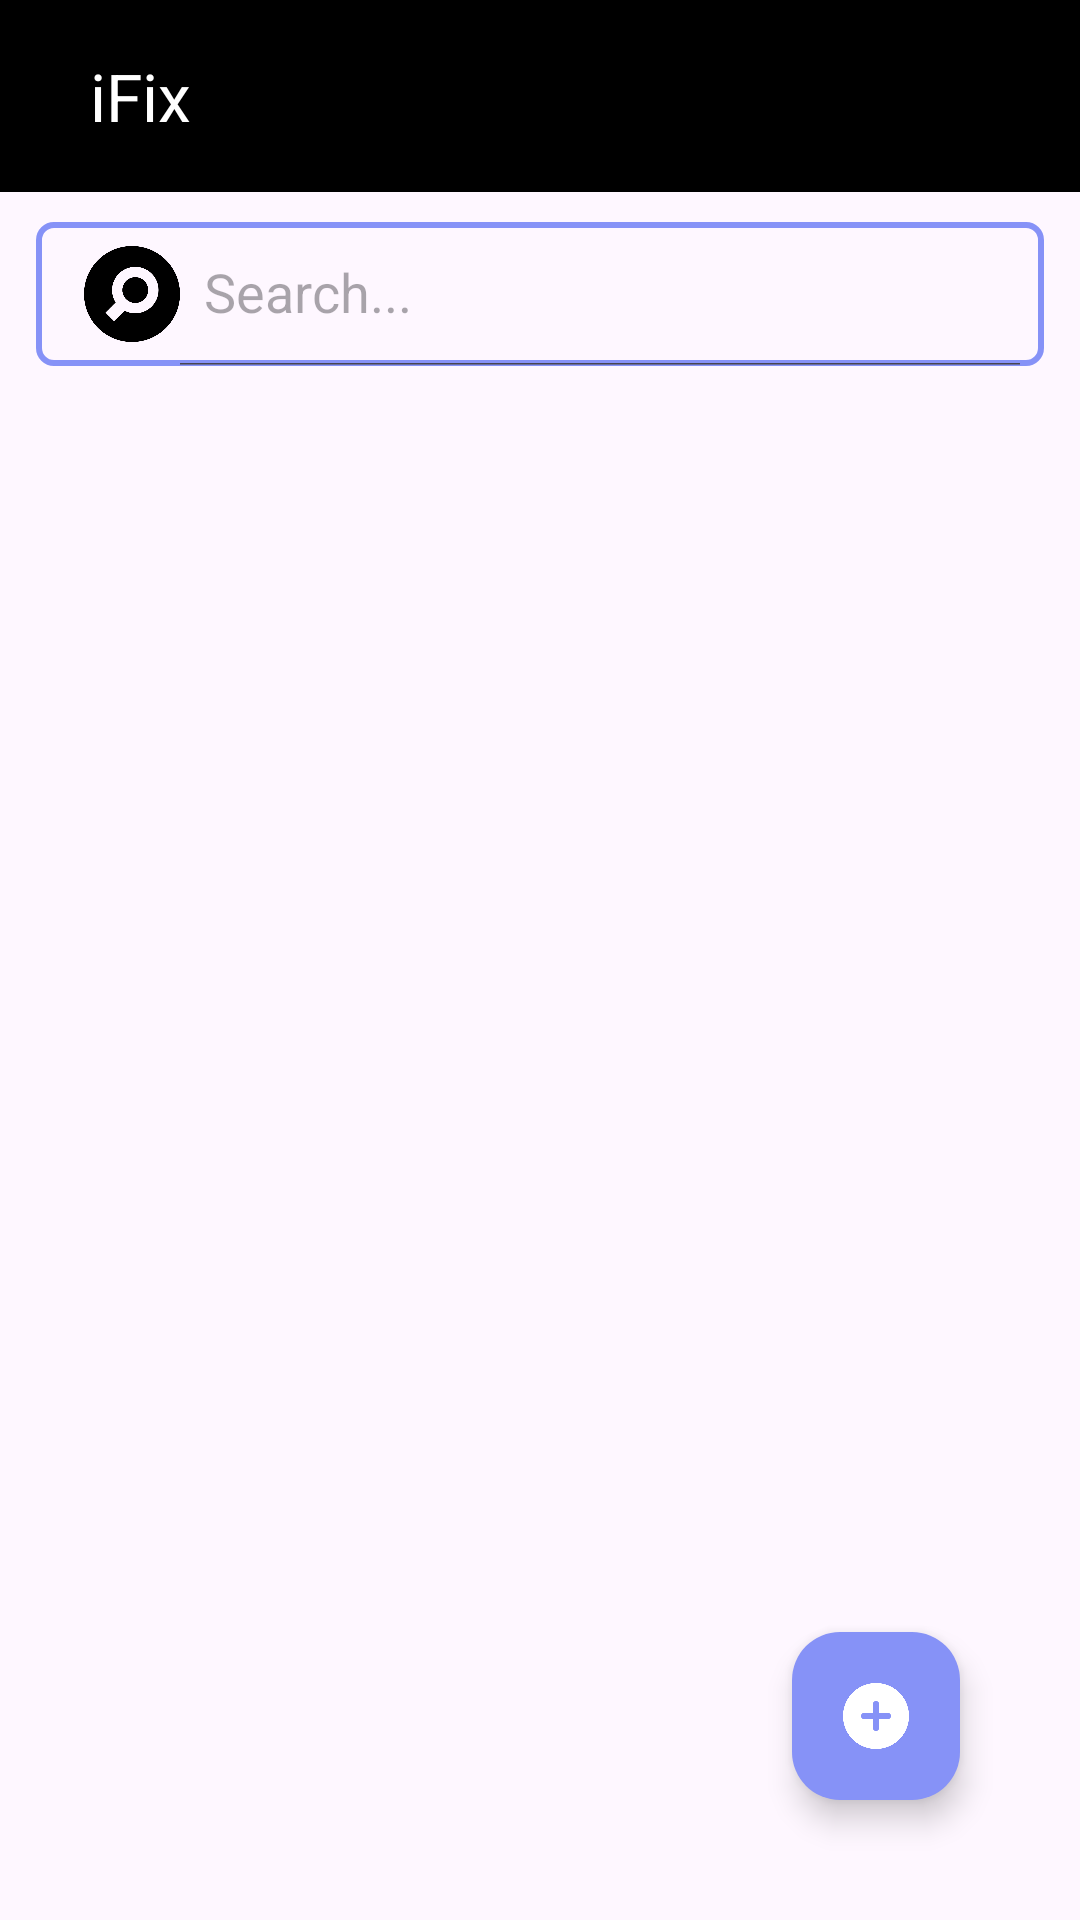

Screen size 1080*1920. Icon name, then its box in pixels as [x1,y1,x2,y2]:
plus: [792,1632,960,1800]
